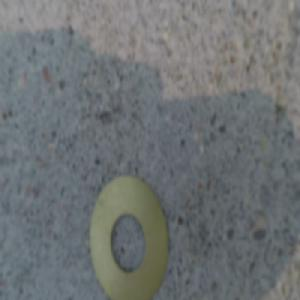Washer: (91, 169, 170, 297)
